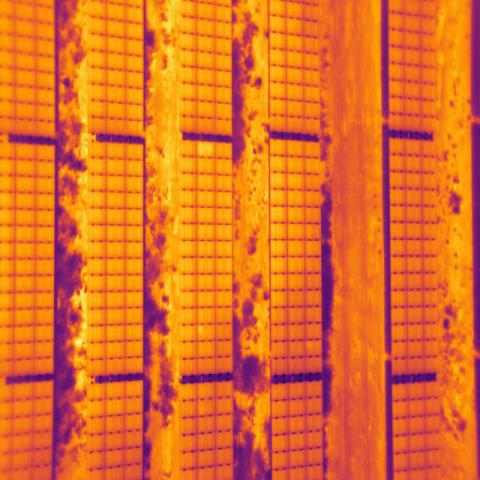fault: (196, 142, 214, 158)
